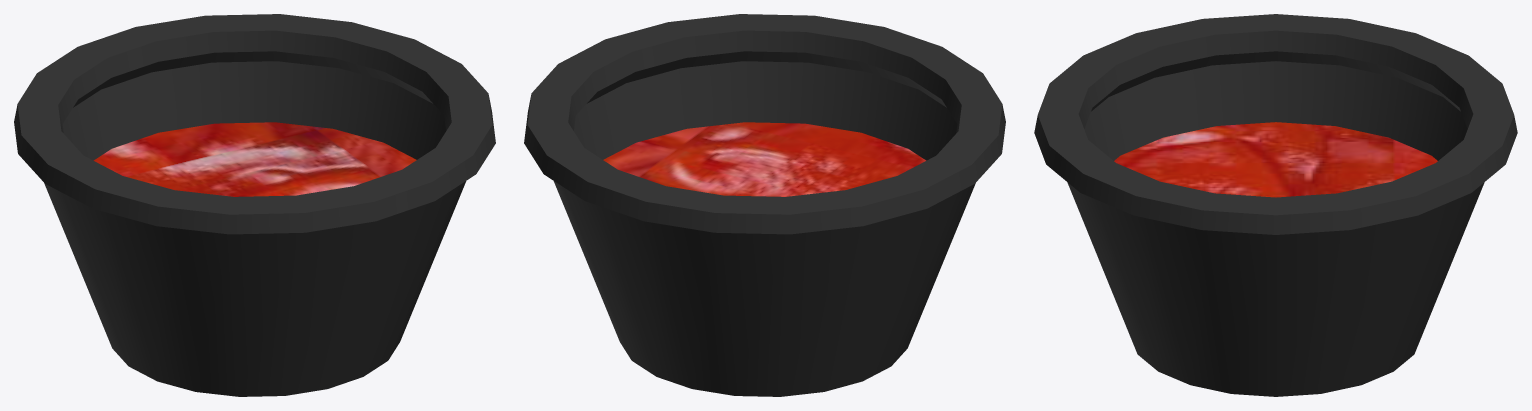
Rendered from Dippin.fbx.
The picture shows the model from 3 angles, left to right: view 1: azimuth 30°, elevation 25°; view 2: azimuth 150°, elevation 25°; view 3: azimuth 270°, elevation 25°; orthographic projection.
Visible parts, largest first — view 1: pCylinder1; view 2: pCylinder1; view 3: pCylinder1.
Part boxes in pixels (left/top/right/bottom): pCylinder1: left=14, top=14, right=495, bottom=396; pCylinder1: left=524, top=14, right=1005, bottom=396; pCylinder1: left=1034, top=14, right=1517, bottom=396.
Size of the model in its own units: 4.91 by 2.48 by 4.91.
2 materials, 1 textured.
